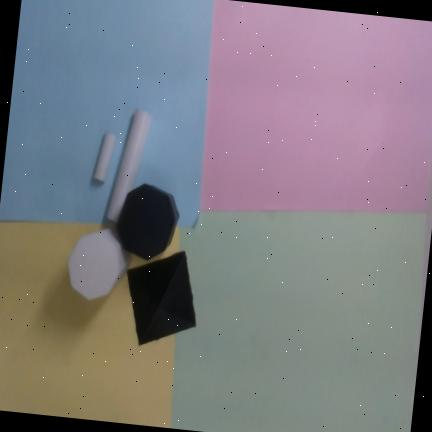Cilindro: (107, 109, 152, 222), (93, 133, 116, 182)
Piramide: (127, 251, 196, 346)
Prisma_hexagonal: (118, 183, 180, 261), (68, 228, 130, 301)
